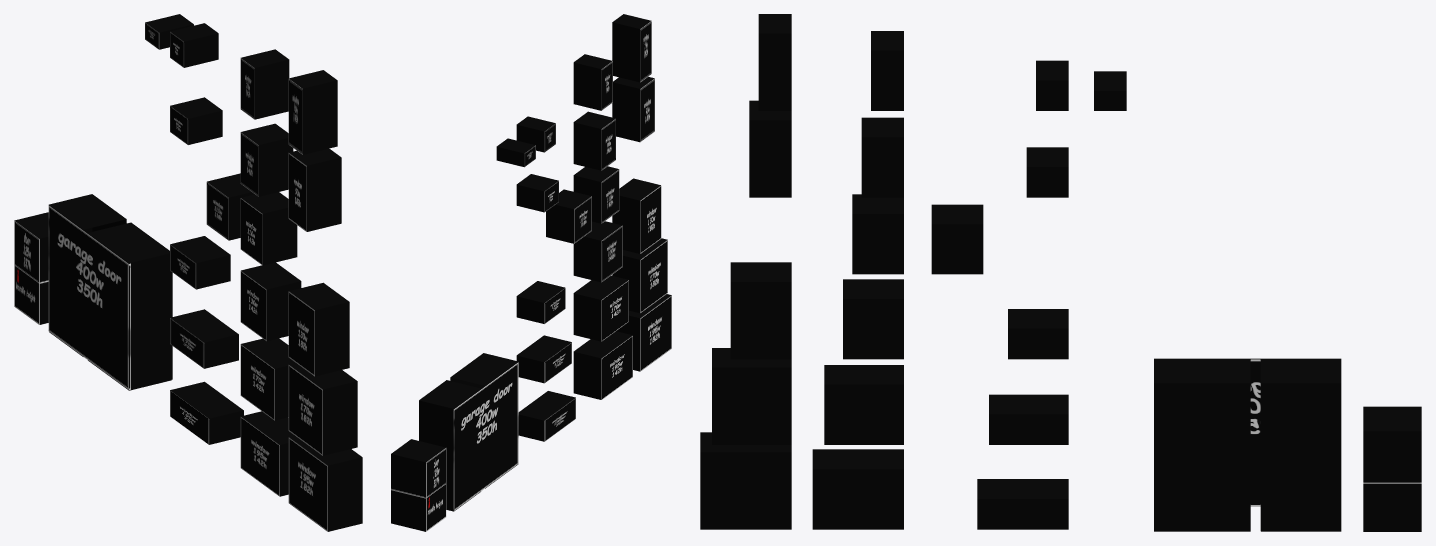
File: Door_window bools.fbx
3 views of the same model, side by side, from view 1: azimuth 30°, elevation 25°; view 2: azimuth 150°, elevation 25°; view 3: azimuth 270°, elevation 25° (orthographic). The views are drawn at different scales.
Visible parts, largest first — view 1: Garage_Door_400x250, Window_130x182.002, Window_130x182.001, Window_130x182, Window_90x182, Window_70x182, Door_125x237.001, Window_130x142, Window_110x142, Window_130x142.003, Window_130x142.005, Window_130x142.004 (+8 smaller); view 2: Garage_Door_400x250, Door_125x237.001, Window_130x142.005, Window_130x142.003, Window_130x182, Window_130x182.001, Window_130x182.002, Window_90x182, Window_130x142, Window_70x182, Window_90x142, Window_130x142.004 (+8 smaller); view 3: Garage_Door_400x250, Window_130x182.002, Window_130x142.005, Door_125x237.001, Window_130x182.001, Window_130x142.003, Window_130x182, Window_130x142, Window_130x142.004, Window_110x142, Window_130x142.002, Window_90x182 (+8 smaller).
Part boxes in pixels (x1,y1,x2,y2): Garage_Door_400x250: (48,194,172,390); Window_130x182.002: (288,435,362,531); Window_130x182.001: (288,363,357,455); Window_130x182: (288,282,349,376); Window_90x182: (288,148,341,231); Window_70x182: (288,70,337,154); Door_125x237.001: (14,212,48,324); Window_130x142: (240,262,301,341); Window_110x142: (240,192,297,265); Window_130x142.003: (240,338,295,420); Window_130x142.005: (240,411,294,496); Window_130x142.004: (170,381,243,444); Garage_Door_400x250: (419,353,518,511); Door_125x237.001: (391,439,446,531); Window_130x142.005: (573,331,632,399); Window_130x142.003: (573,275,628,341); Window_130x182: (612,178,661,253); Window_130x182.001: (612,238,667,313); Window_130x182.002: (616,294,671,371); Window_90x182: (612,76,654,142); Window_130x142: (573,221,622,282); Window_70x182: (612,14,651,82); Window_90x142: (573,111,615,170); Window_130x142.004: (518,391,575,441); Garage_Door_400x250: (1154,358,1341,531); Window_130x182.002: (700,432,791,529); Window_130x142.005: (812,449,903,529); Door_125x237.001: (1363,406,1421,531); Window_130x182.001: (712,348,791,444); Window_130x142.003: (824,365,903,444); Window_130x182: (730,262,791,359); Window_130x142: (843,279,903,359); Window_130x142.004: (977,479,1068,529); Window_110x142: (852,194,903,274); Window_130x142.002: (989,394,1068,444); Window_90x182: (749,100,791,197).
Bounding box in the file's own units: 125 × 1168 × 1540.
